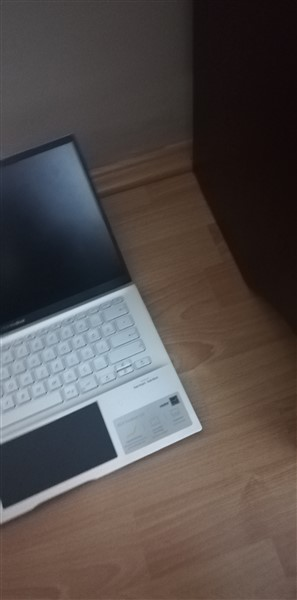laptop: (1, 132, 210, 517)
